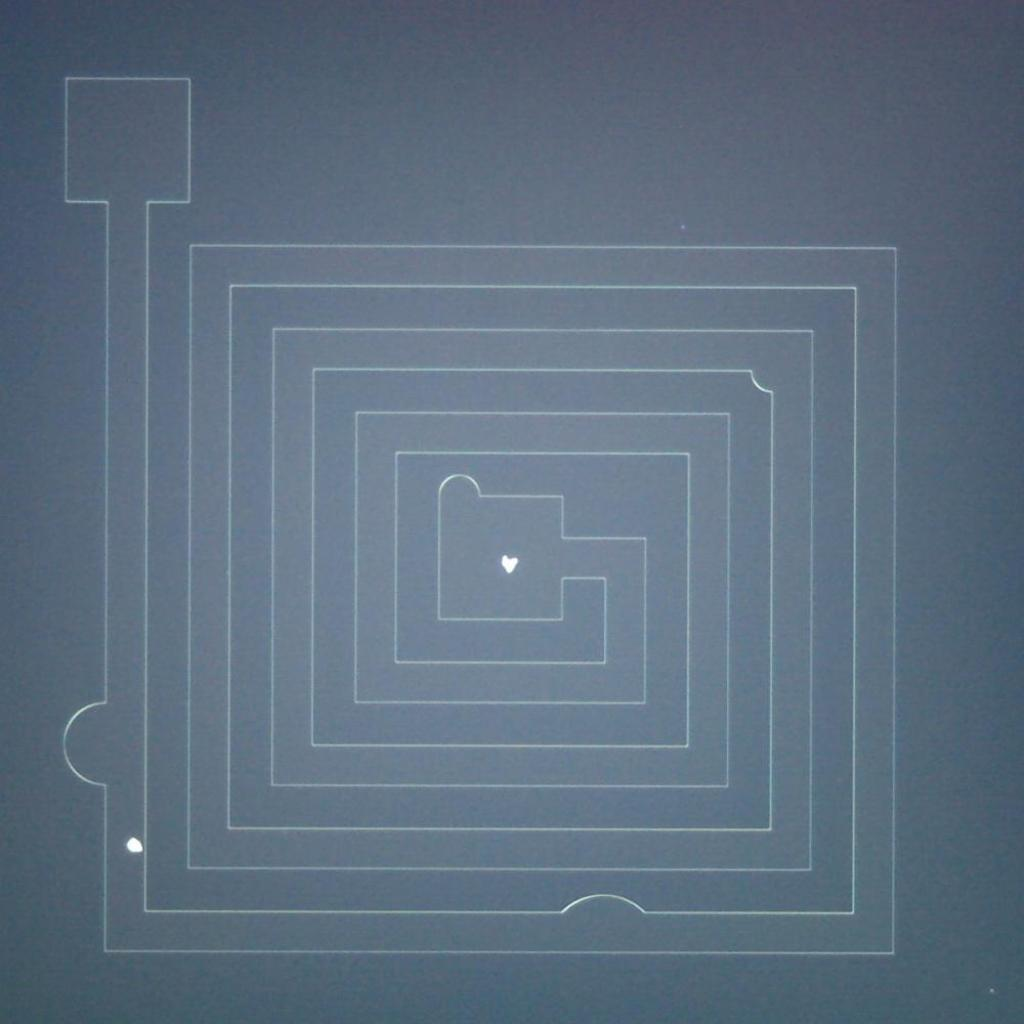curve circuit: (53, 686, 122, 799), (553, 887, 656, 932), (738, 354, 784, 405), (434, 466, 489, 506)
spot: (494, 544, 534, 586), (116, 824, 156, 864)
